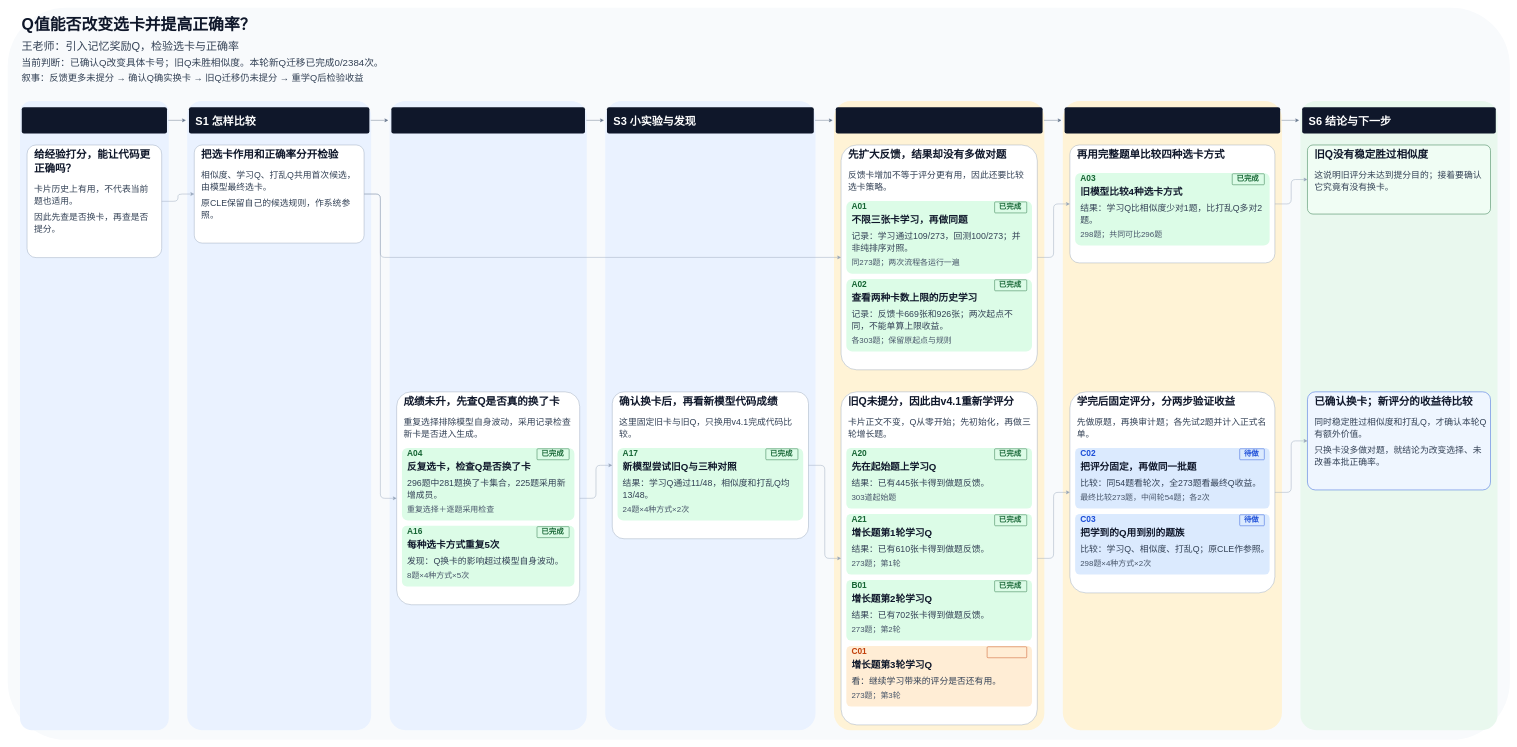
This 1517x747 diagram has some shape labels left out. Here are the shapes that lost their labels. From the top down, the centre of each, then its label:
the point at 94,120: S0 为什么做
the point at 488,120: S2 先验证哪一步
the point at 939,120: S4 继续学习或建方法
the point at 1172,120: S5 完成主要比较
the point at 1007,652: 正在运行
